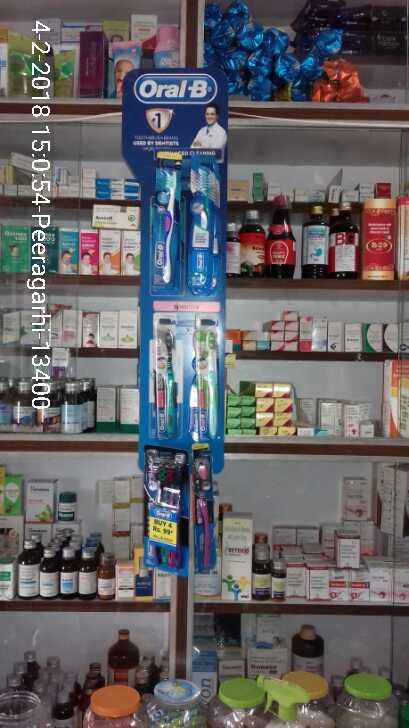oralb: (188, 327, 226, 446), (184, 166, 218, 297), (150, 328, 182, 447), (151, 167, 180, 293)
